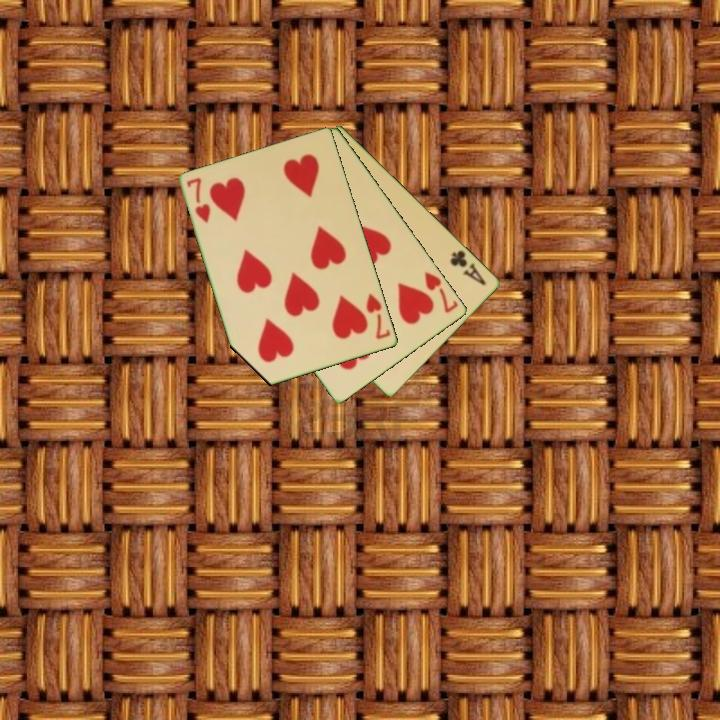7h: (421, 268, 461, 316), (363, 290, 394, 342), (183, 174, 214, 226)
Ac: (447, 246, 489, 288)
